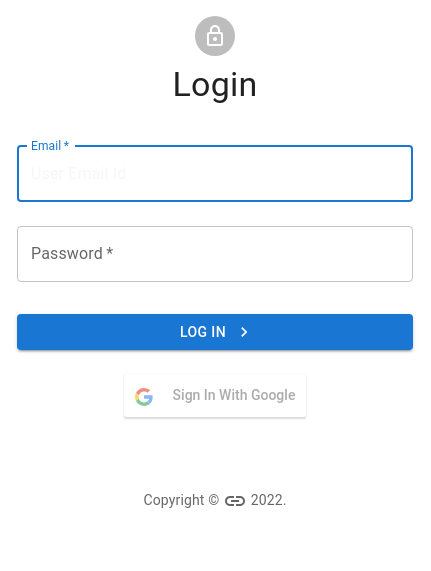
Should test Login page › Should be show invalid password if the password  length is less than 8
Expected: the text "Password should be of minimum 8 characters length" is not shown
# getting the email field for testing purposes
Type "12345" into the password field labelled "Password *". click: (215, 254)
box: [17,226,413,282]
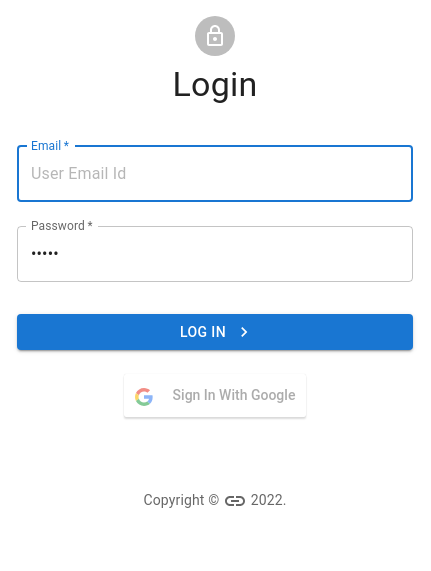
Click the button "Log in". click: (215, 332)
box: [17,314,413,350]
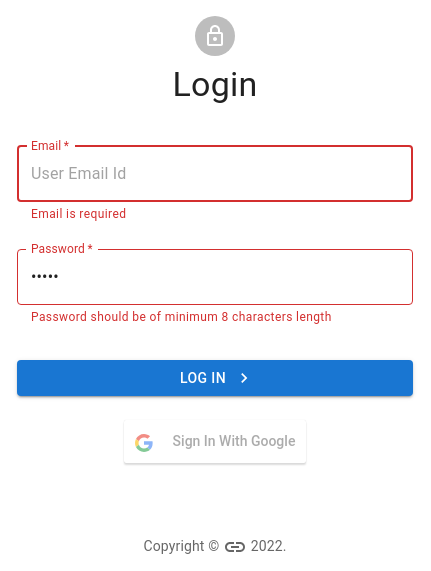
Now the text "Password should be of minimum 8 characters length" is shown, box [31,310,332,324]
